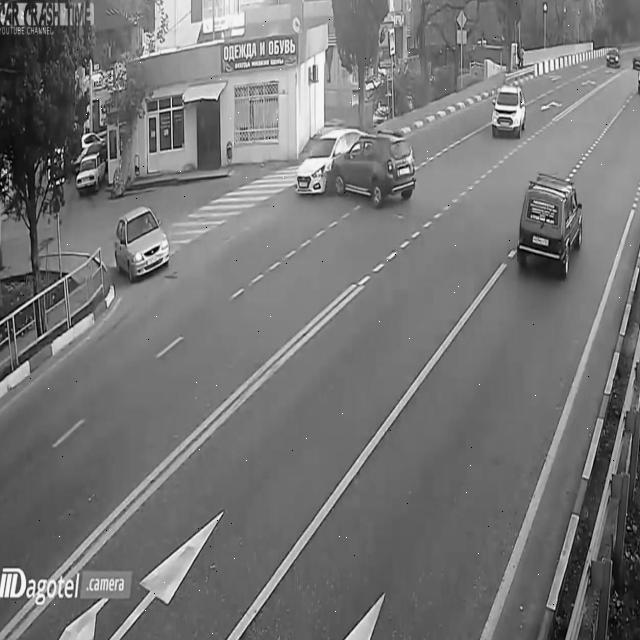accident: (291, 101, 418, 208)
